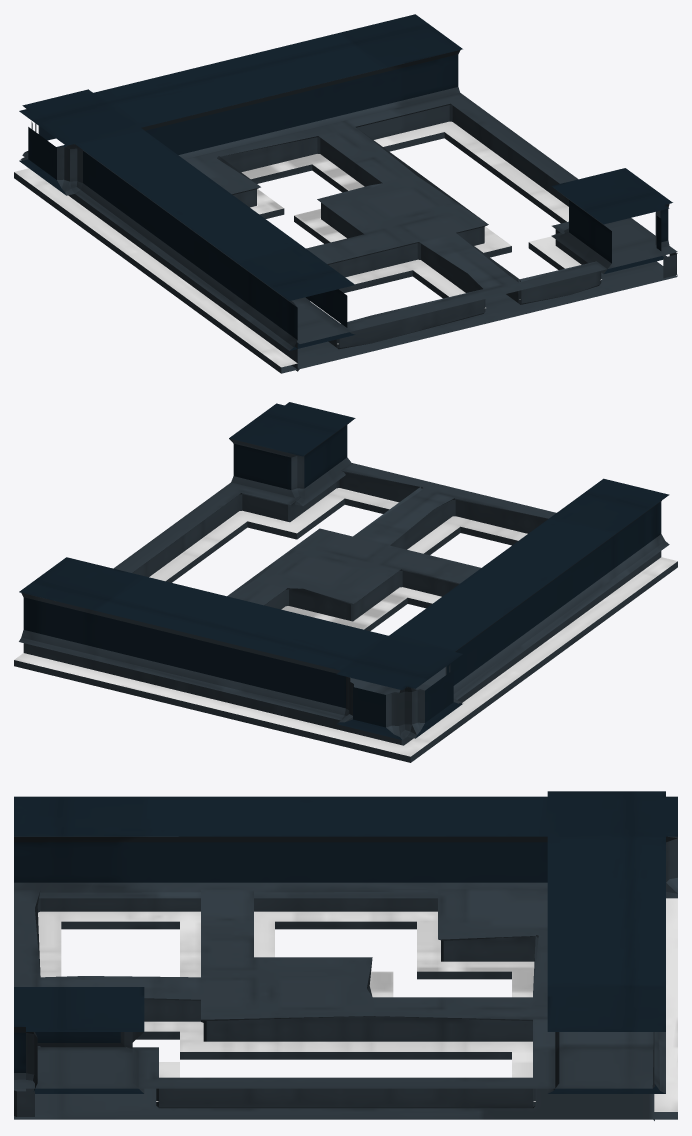
Rendered from delbld-girder-578.glb.
The picture shows the model from 3 angles, top to bottom: view 1: azimuth 30°, elevation 25°; view 2: azimuth 150°, elevation 25°; view 3: azimuth 270°, elevation 25°; orthographic projection. The views are drawn at different scales.
Parts seen in each view (by area): view 1: delbld-girder-578; view 2: delbld-girder-578; view 3: delbld-girder-578.
Part boxes in pixels (left/top/right/bottom): delbld-girder-578: left=14, top=14, right=677, bottom=373; delbld-girder-578: left=14, top=402, right=677, bottom=762; delbld-girder-578: left=14, top=791, right=677, bottom=1120.
Size of the model in its own units: 2 by 0.35 by 2.33.
3 materials, 3 textured.
